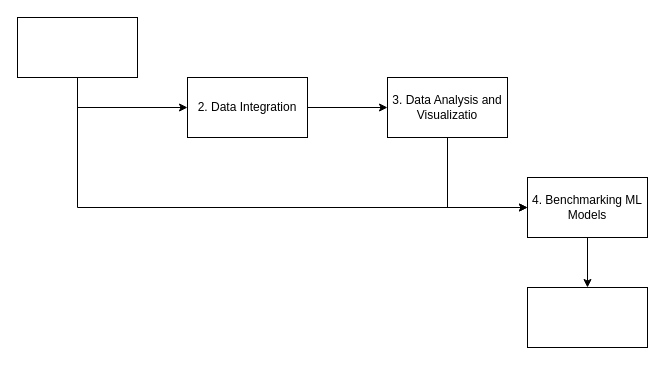
Some shapes in this 665 by 365 pixel diagram are drawn without their labels. The shapes that lost their labels are listed below. From the top down, each one's box as (x1, y1, x2, y2) in pixels, then its label:
(16, 16, 138, 78): 1. Data Preprocessing
(526, 286, 648, 348): 5. Reporting and Documentation
